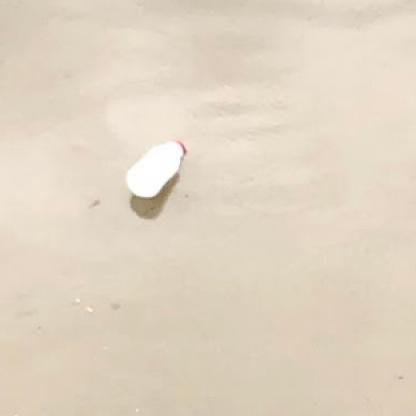plastic bottle: (125, 139, 186, 198)
